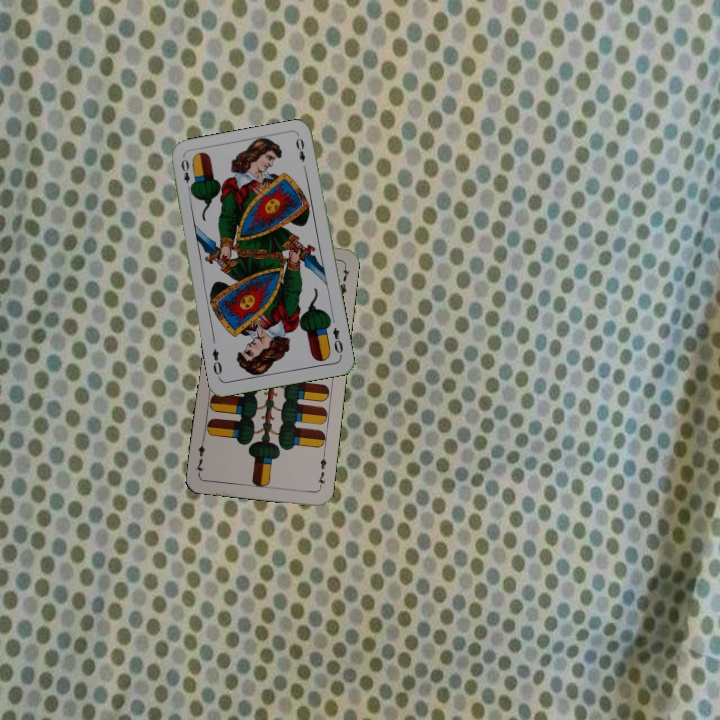E7: (314, 450, 329, 491)
EO: (177, 155, 195, 195), (329, 323, 346, 359)
